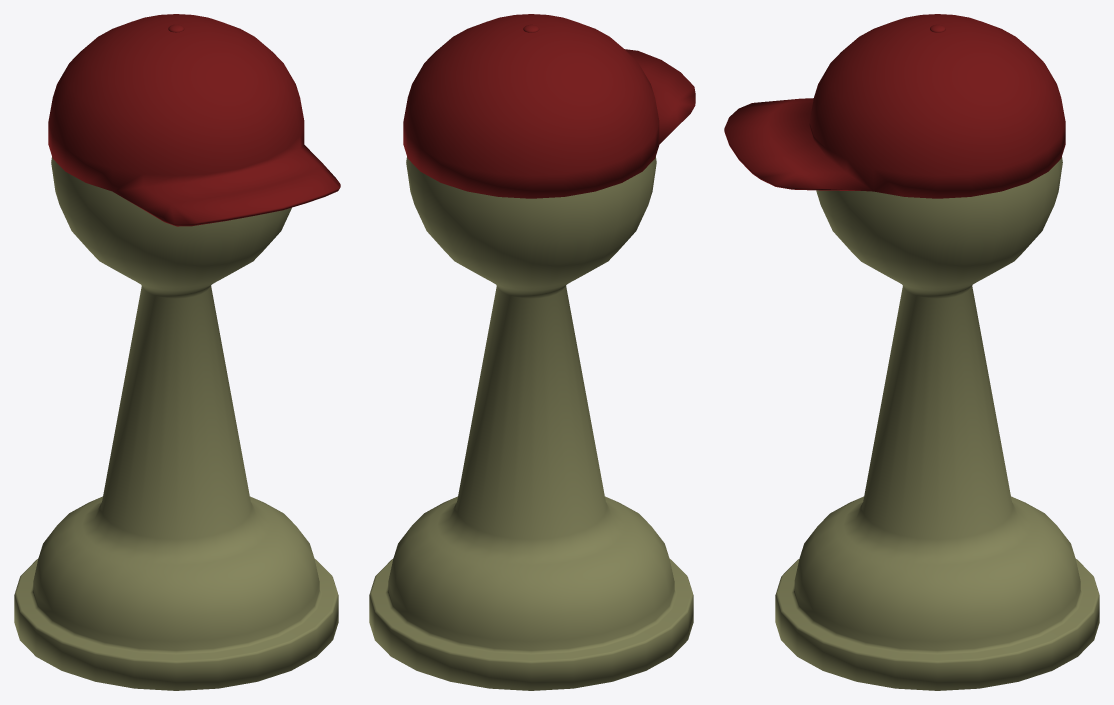
File: C_Piece1_.fbx
3 renders of one model, left to right at view 1: azimuth 30°, elevation 25°; view 2: azimuth 150°, elevation 25°; view 3: azimuth 270°, elevation 25°, orthographic.
Visible parts, largest first — view 1: C_Piece1_:C_Piece1_H_4_Export_:Mesh_X_Piece1, C_Piece1_:C_Piece1_H_4_Export_:Mesh_X_Hat1; view 2: C_Piece1_:C_Piece1_H_4_Export_:Mesh_X_Piece1, C_Piece1_:C_Piece1_H_4_Export_:Mesh_X_Hat1; view 3: C_Piece1_:C_Piece1_H_4_Export_:Mesh_X_Piece1, C_Piece1_:C_Piece1_H_4_Export_:Mesh_X_Hat1.
Boxes of the visible parts, box(x1,y1,x2,y2) form: C_Piece1_:C_Piece1_H_4_Export_:Mesh_X_Piece1: box(14, 157, 338, 690); C_Piece1_:C_Piece1_H_4_Export_:Mesh_X_Hat1: box(48, 14, 340, 226); C_Piece1_:C_Piece1_H_4_Export_:Mesh_X_Piece1: box(369, 156, 693, 690); C_Piece1_:C_Piece1_H_4_Export_:Mesh_X_Hat1: box(403, 14, 695, 198); C_Piece1_:C_Piece1_H_4_Export_:Mesh_X_Piece1: box(775, 157, 1099, 690); C_Piece1_:C_Piece1_H_4_Export_:Mesh_X_Hat1: box(724, 14, 1065, 198).
Size of the model in its own units: 100 by 203 by 116.
